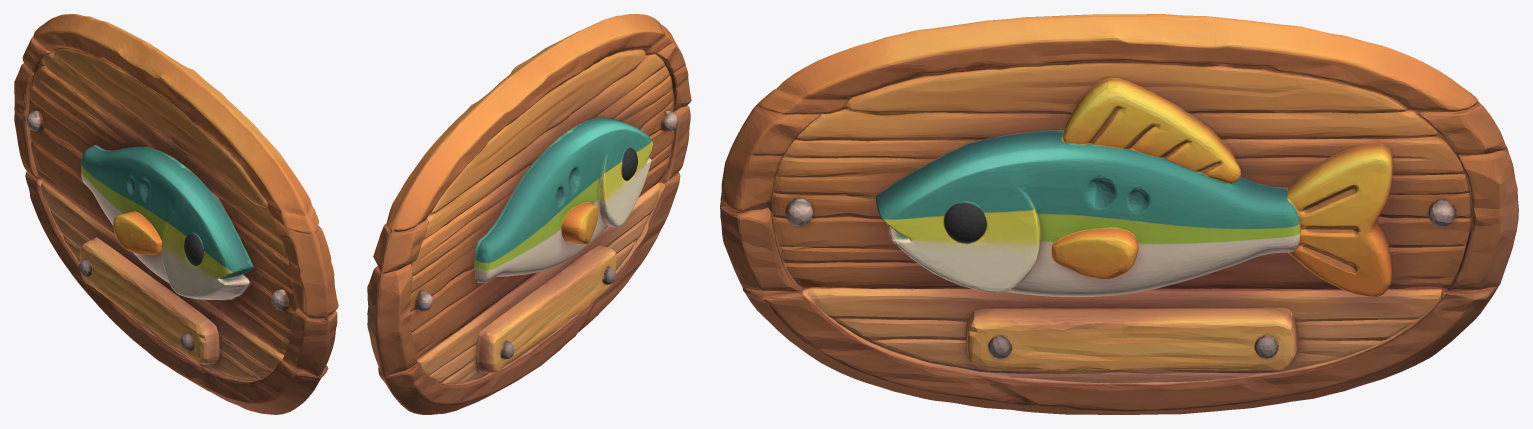
The model's file is sign_1.glb.
The picture shows the model from 3 angles, left to right: view 1: azimuth 30°, elevation 25°; view 2: azimuth 150°, elevation 25°; view 3: azimuth 270°, elevation 25°; orthographic projection. The views are drawn at different scales.
Visible parts, largest first — view 1: tripo_node_2eb84678-b9a5-48c4-b2ee-e731cd297d6b; view 2: tripo_node_2eb84678-b9a5-48c4-b2ee-e731cd297d6b; view 3: tripo_node_2eb84678-b9a5-48c4-b2ee-e731cd297d6b.
Part boxes in pixels (box(x1,y1,x2,y2)): tripo_node_2eb84678-b9a5-48c4-b2ee-e731cd297d6b: box(14, 14, 338, 414); tripo_node_2eb84678-b9a5-48c4-b2ee-e731cd297d6b: box(367, 14, 691, 414); tripo_node_2eb84678-b9a5-48c4-b2ee-e731cd297d6b: box(720, 14, 1518, 414).
Bounding box in the file's own units: 0.2446 × 0.5519 × 1.
1 material, 1 textured.
